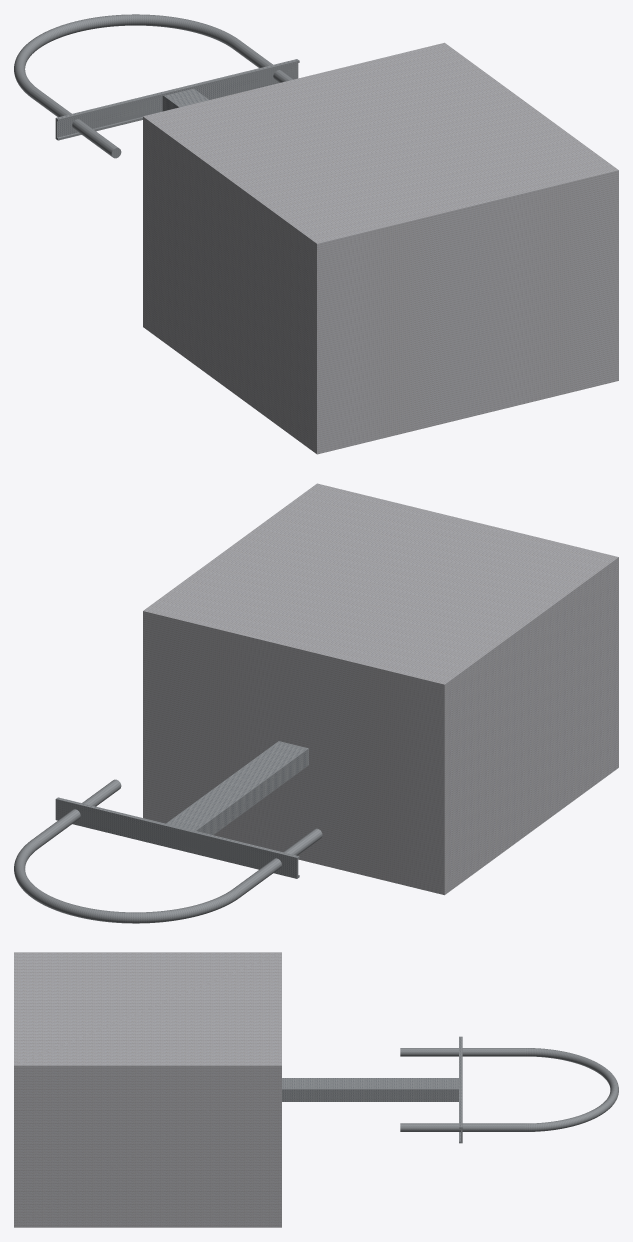
File: Sbborka.FBX
3 views of the same model, one above another, from view 1: azimuth 30°, elevation 25°; view 2: azimuth 150°, elevation 25°; view 3: azimuth 270°, elevation 25° (orthographic). The views are drawn at different scales.
Visible parts, largest first — view 1: Бобышка-Вытянуть1, Бобышка-Вытянуть2, По траектории5; view 2: Бобышка-Вытянуть1, Бобышка-Вытянуть2, По траектории5; view 3: Бобышка-Вытянуть1, Бобышка-Вытянуть2, По траектории5.
Boxes of the visible parts, left/top/right/bottom form: Бобышка-Вытянуть1: left=143, top=42, right=618, bottom=454; Бобышка-Вытянуть2: left=55, top=59, right=299, bottom=140; По траектории5: left=14, top=14, right=292, bottom=158; Бобышка-Вытянуть1: left=143, top=483, right=618, bottom=895; Бобышка-Вытянуть2: left=55, top=741, right=308, bottom=878; По траектории5: left=14, top=779, right=322, bottom=923; Бобышка-Вытянуть1: left=14, top=952, right=281, bottom=1227; Бобышка-Вытянуть2: left=282, top=1036, right=462, bottom=1143; По траектории5: left=400, top=1048, right=618, bottom=1131.
Bounding box in the file's own units: 59.06 × 39.37 × 133.
Materials: 2 (2 with a texture image).
